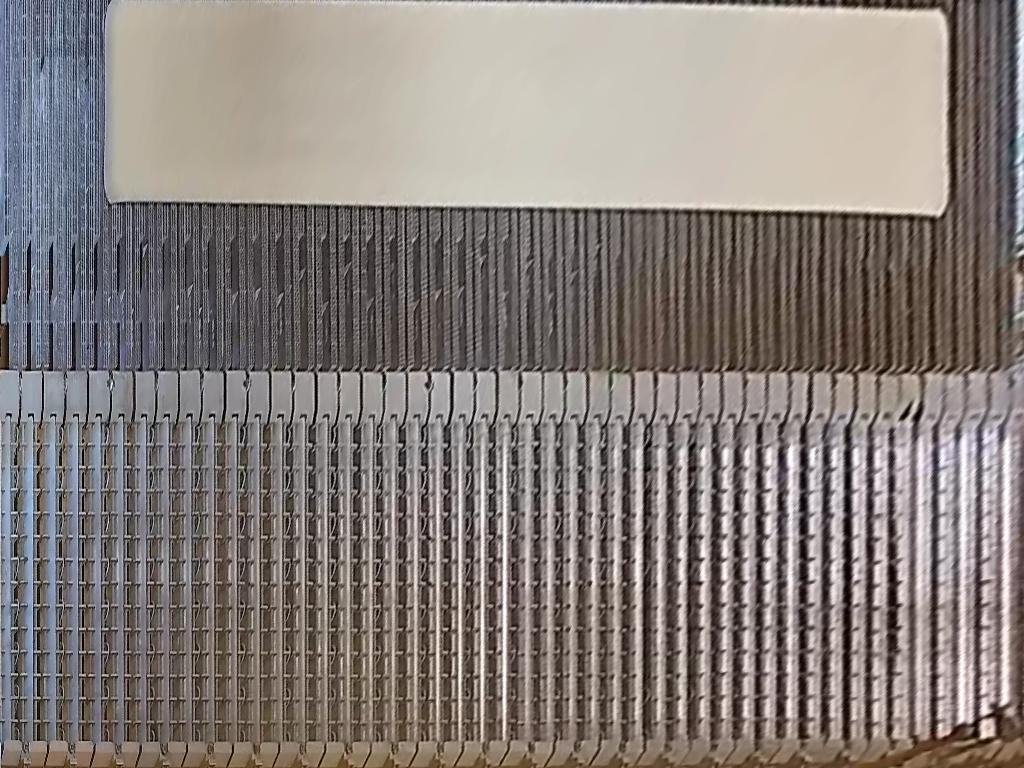steel: (100, 1, 952, 219)
